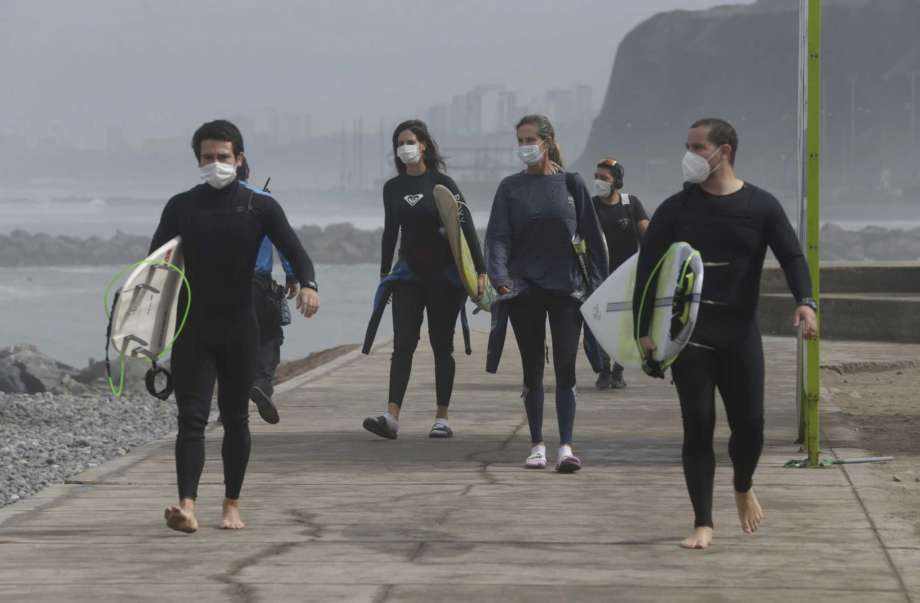with_mask: (188, 123, 250, 191), (679, 121, 738, 184), (386, 123, 434, 174), (510, 124, 560, 169), (586, 163, 627, 198)
